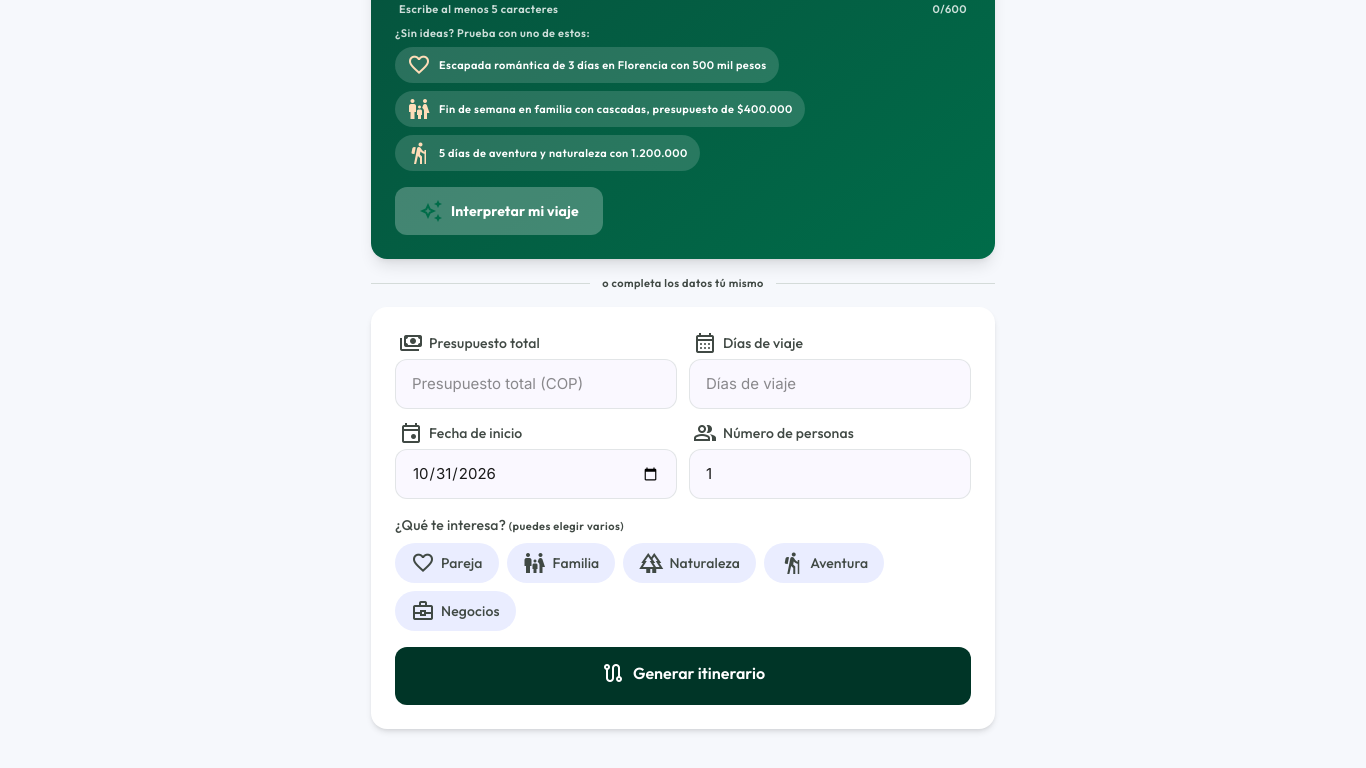
Test: Itinerario: resultado › muestra el resumen real: días, actividades, presupuesto usado y municipios
(page scrolled)
Type "200000" into the number field with placeholder "Presupuesto total (COP)". click: (536, 384)
box: [395,359,677,409]
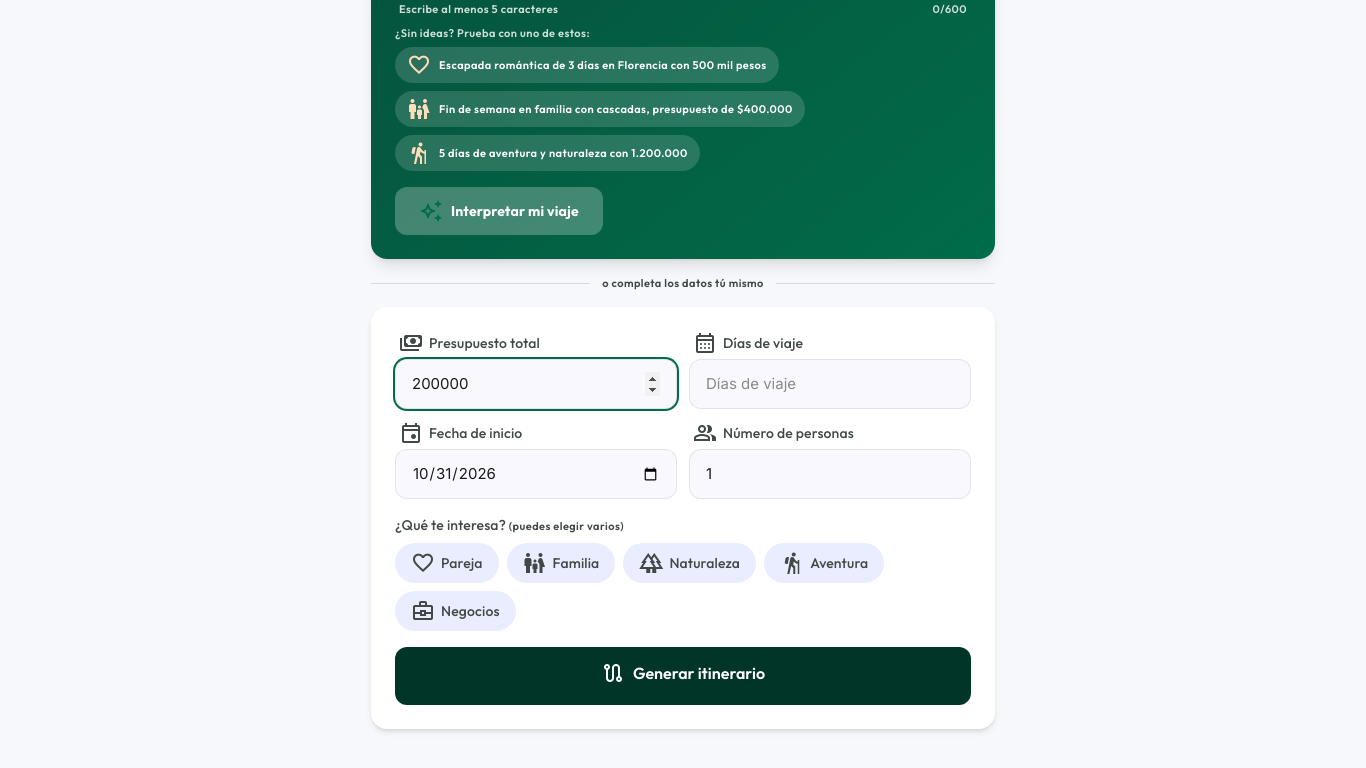
Type "2" into the number field with placeholder "Días de viaje". click: (830, 384)
box: [689,359,971,409]
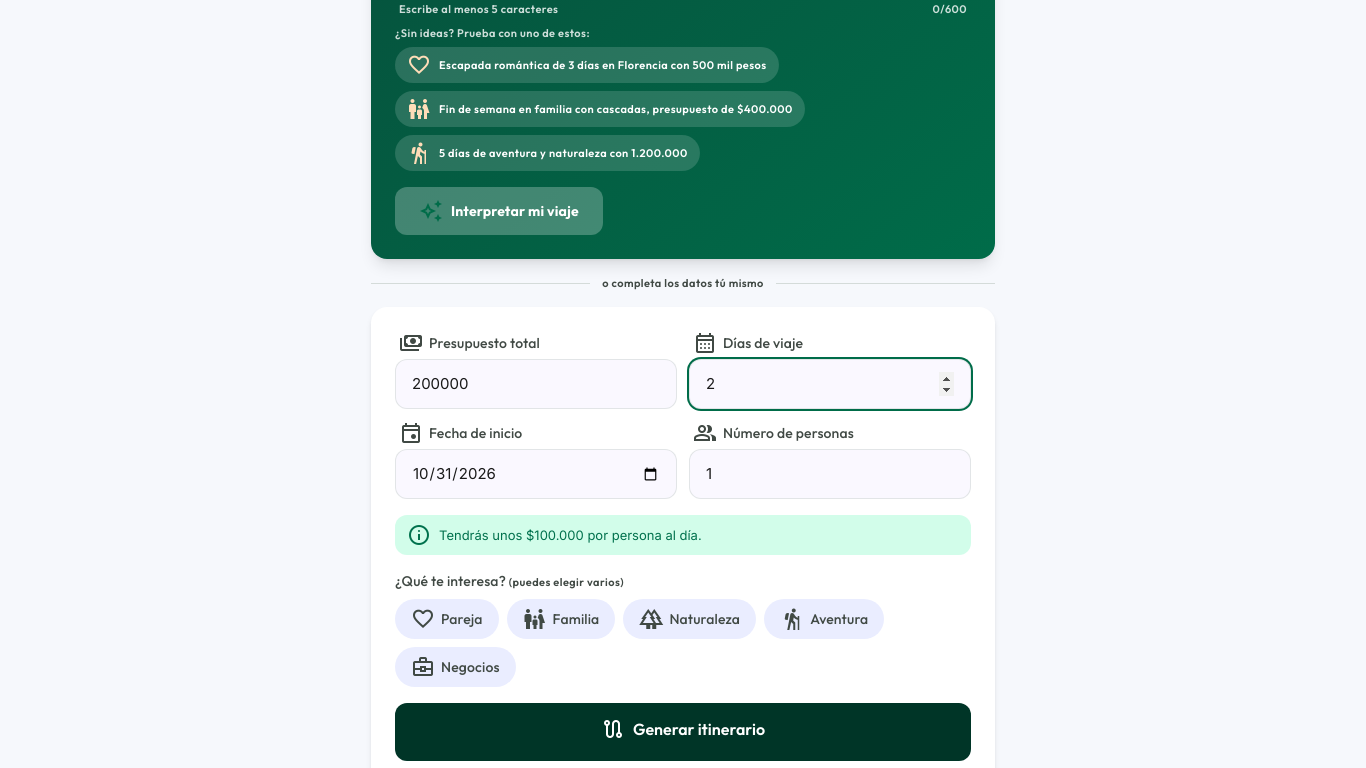
Click the button "Generar itinerario". click: (683, 732)
box: [395,703,971,761]
(page scrolled)
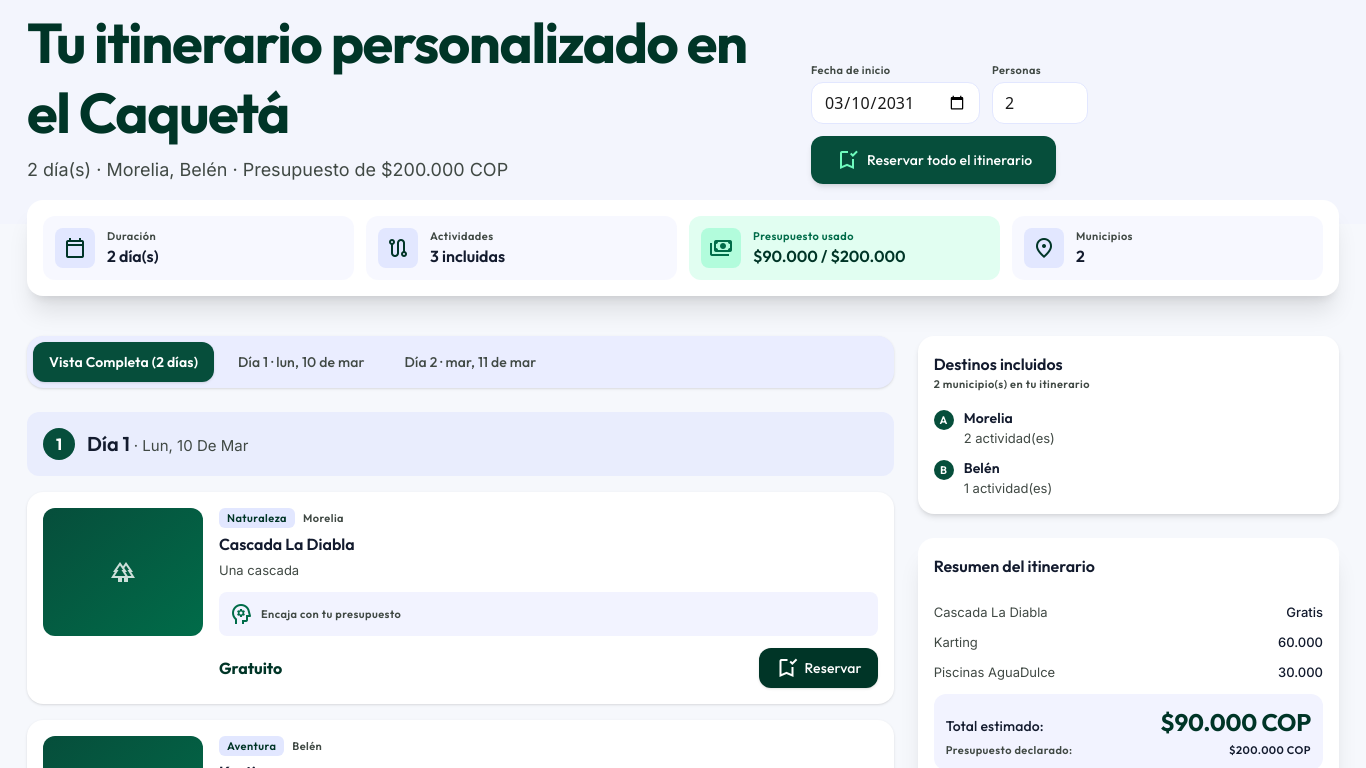
Check: the heading "Tu itinerario personalizado en el Caquetá" is shown, box [27,8,795,148]
Check: the text "3 incluidas" is shown, box [430,244,505,268]
Check: the text "$90.000 / $200.000" is shown, box [753,244,906,268]
